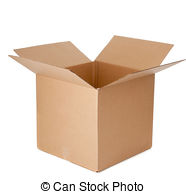box: (10, 26, 181, 164), (9, 26, 184, 160)
